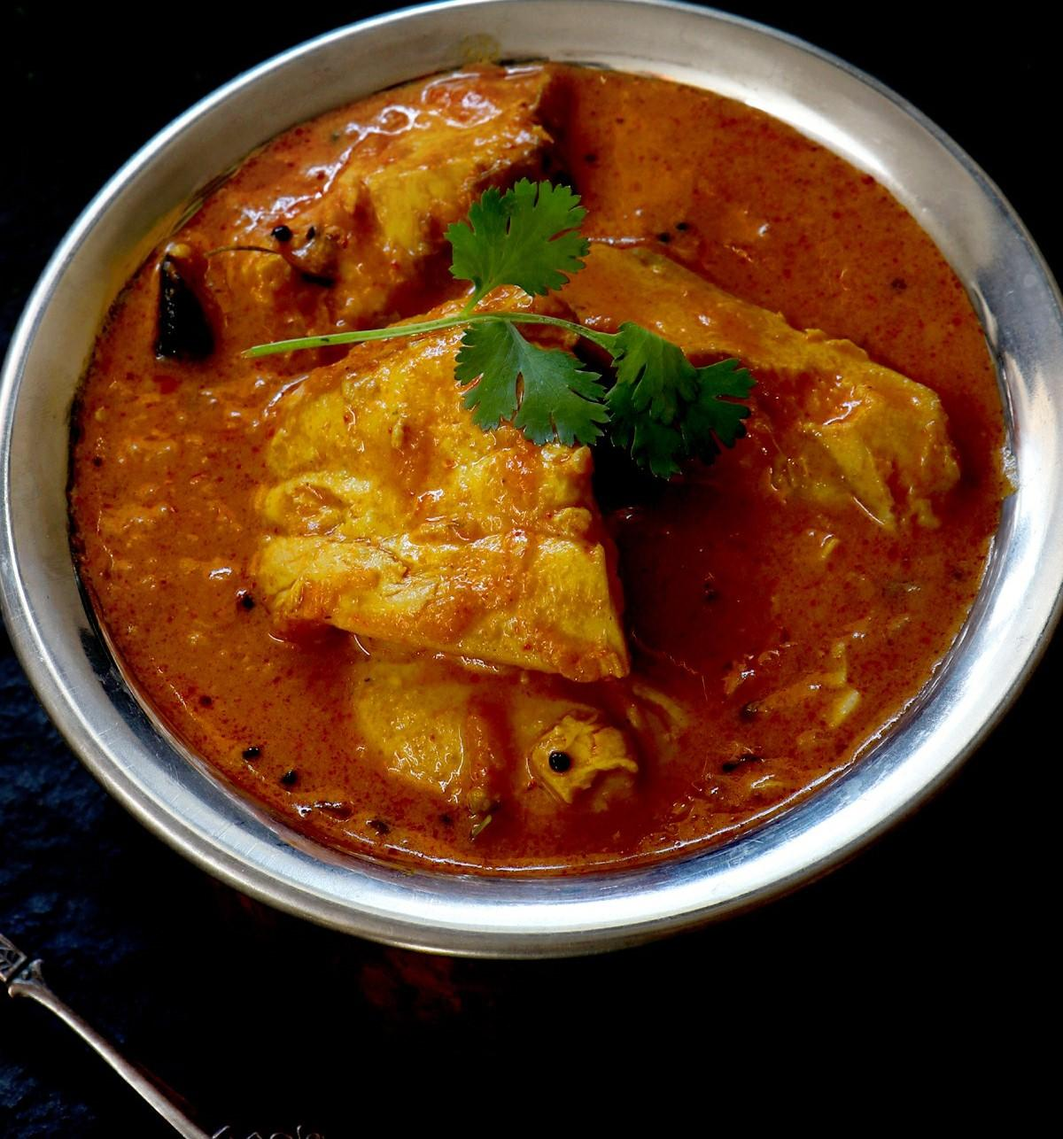FishCurry: (67, 62, 1007, 873)
